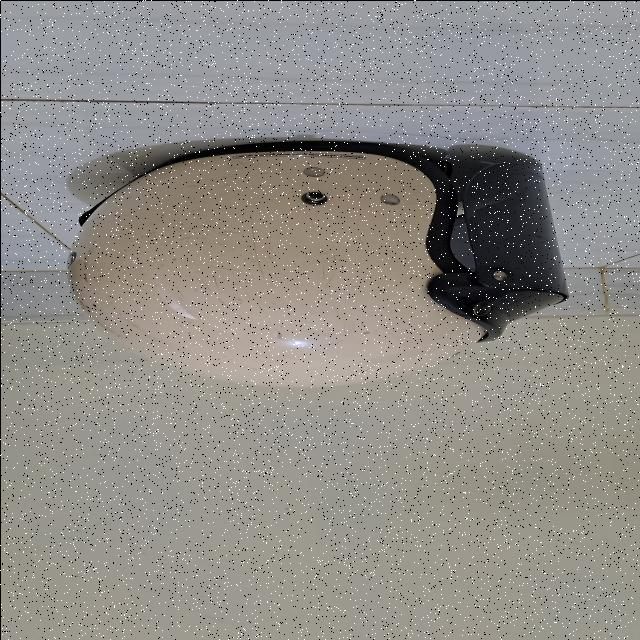Helmet: (65, 143, 565, 386)
